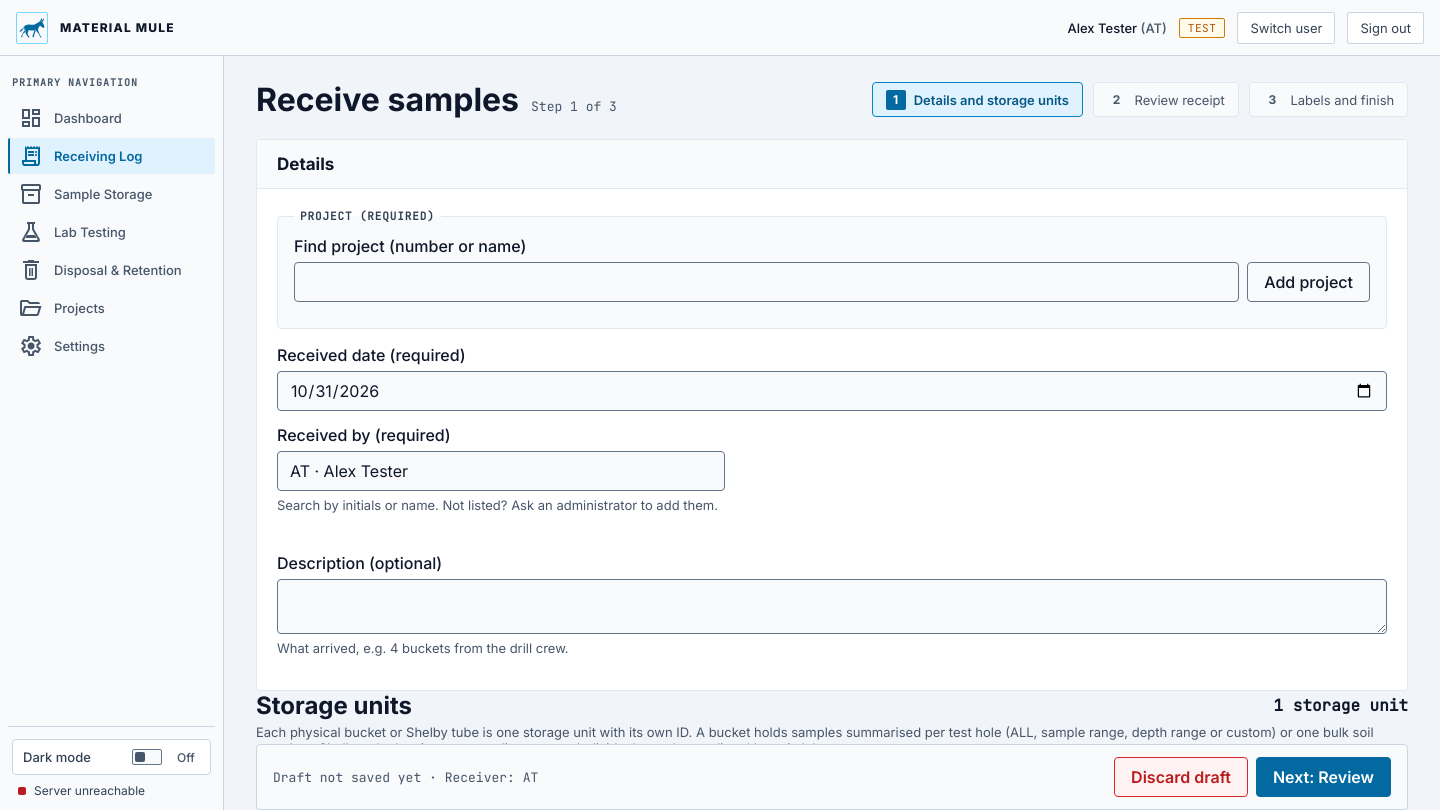
Test: Receive samples: project and test holes (MM-T08) › AC1: typing a number shows matches; choosing one fills the other fields read-only
The image size is (1440, 810).
Type "679" into the dropdown labelled "Find project (number or name)".
click(767, 282); type("679")  # box [294,262,1239,302]
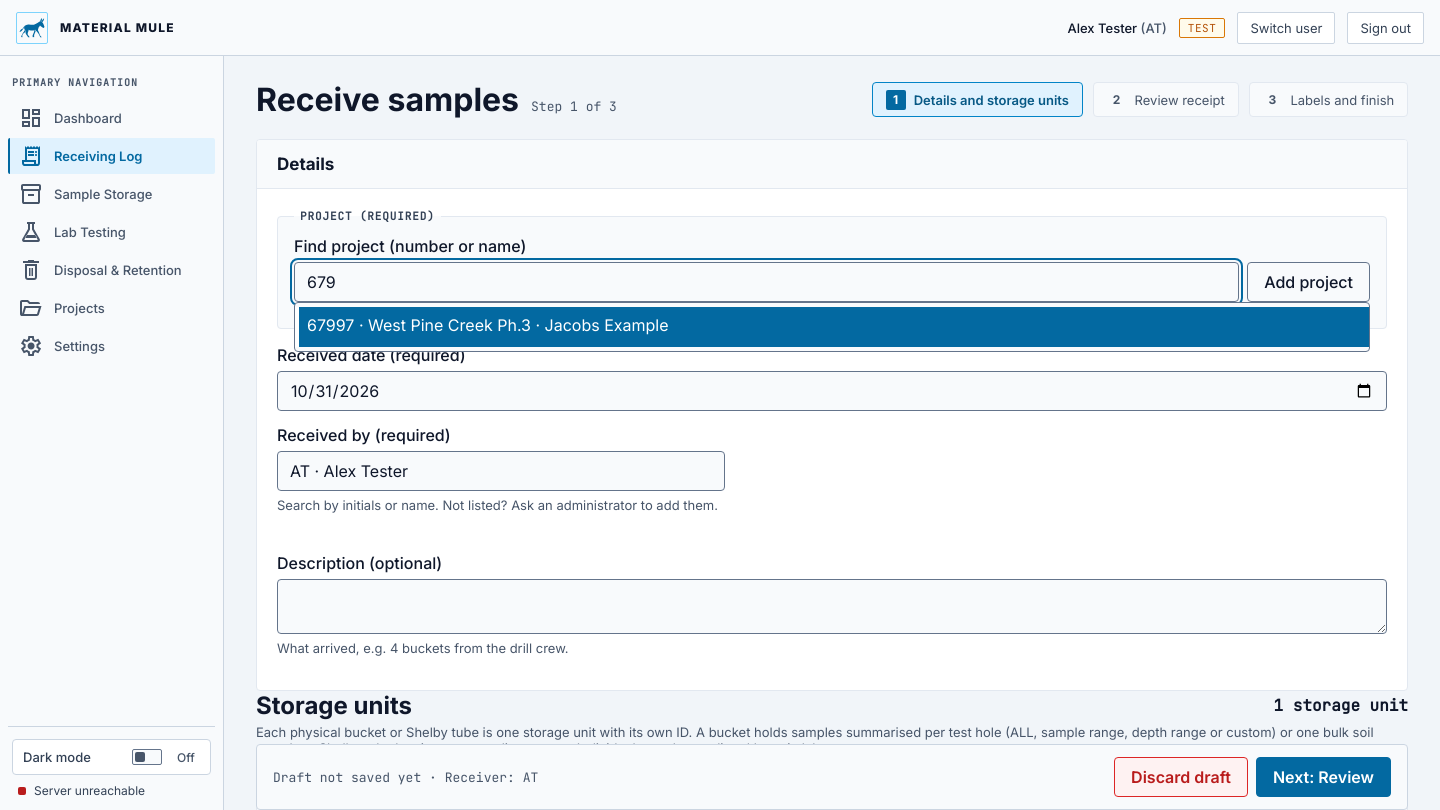
Click the option "67997 · West Pine Creek Ph.3 · Jacobs Example".
click(488, 325)  # box [295,307,1369,347]
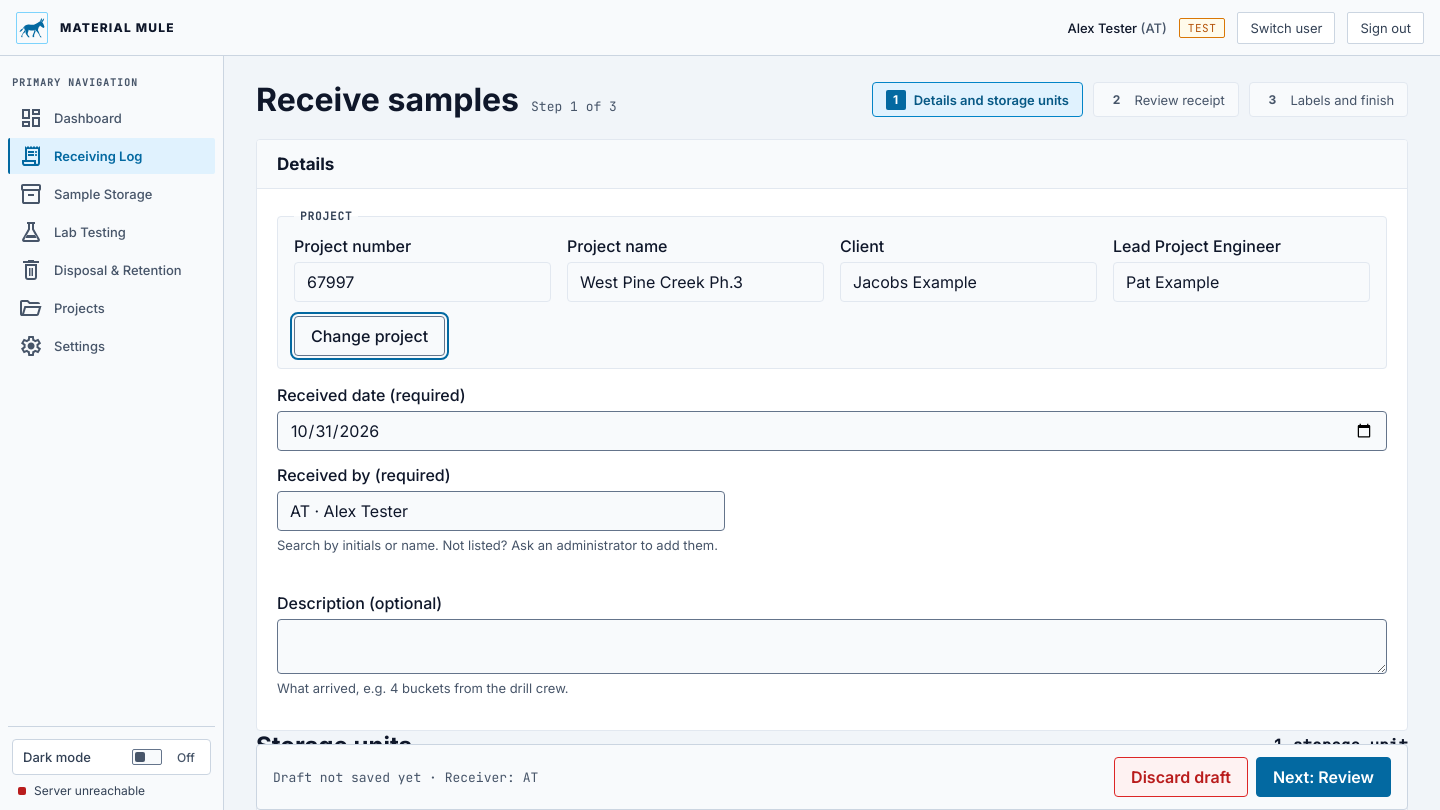
Expected: the field labelled "Project number" holds "67997", [294,262,551,302]
Expected: the field labelled "Project name" holds "West Pine Creek Ph.3", [567,262,824,302]
Expected: the field labelled "Lead Project Engineer" holds "Pat Example", [1113,262,1370,302]
